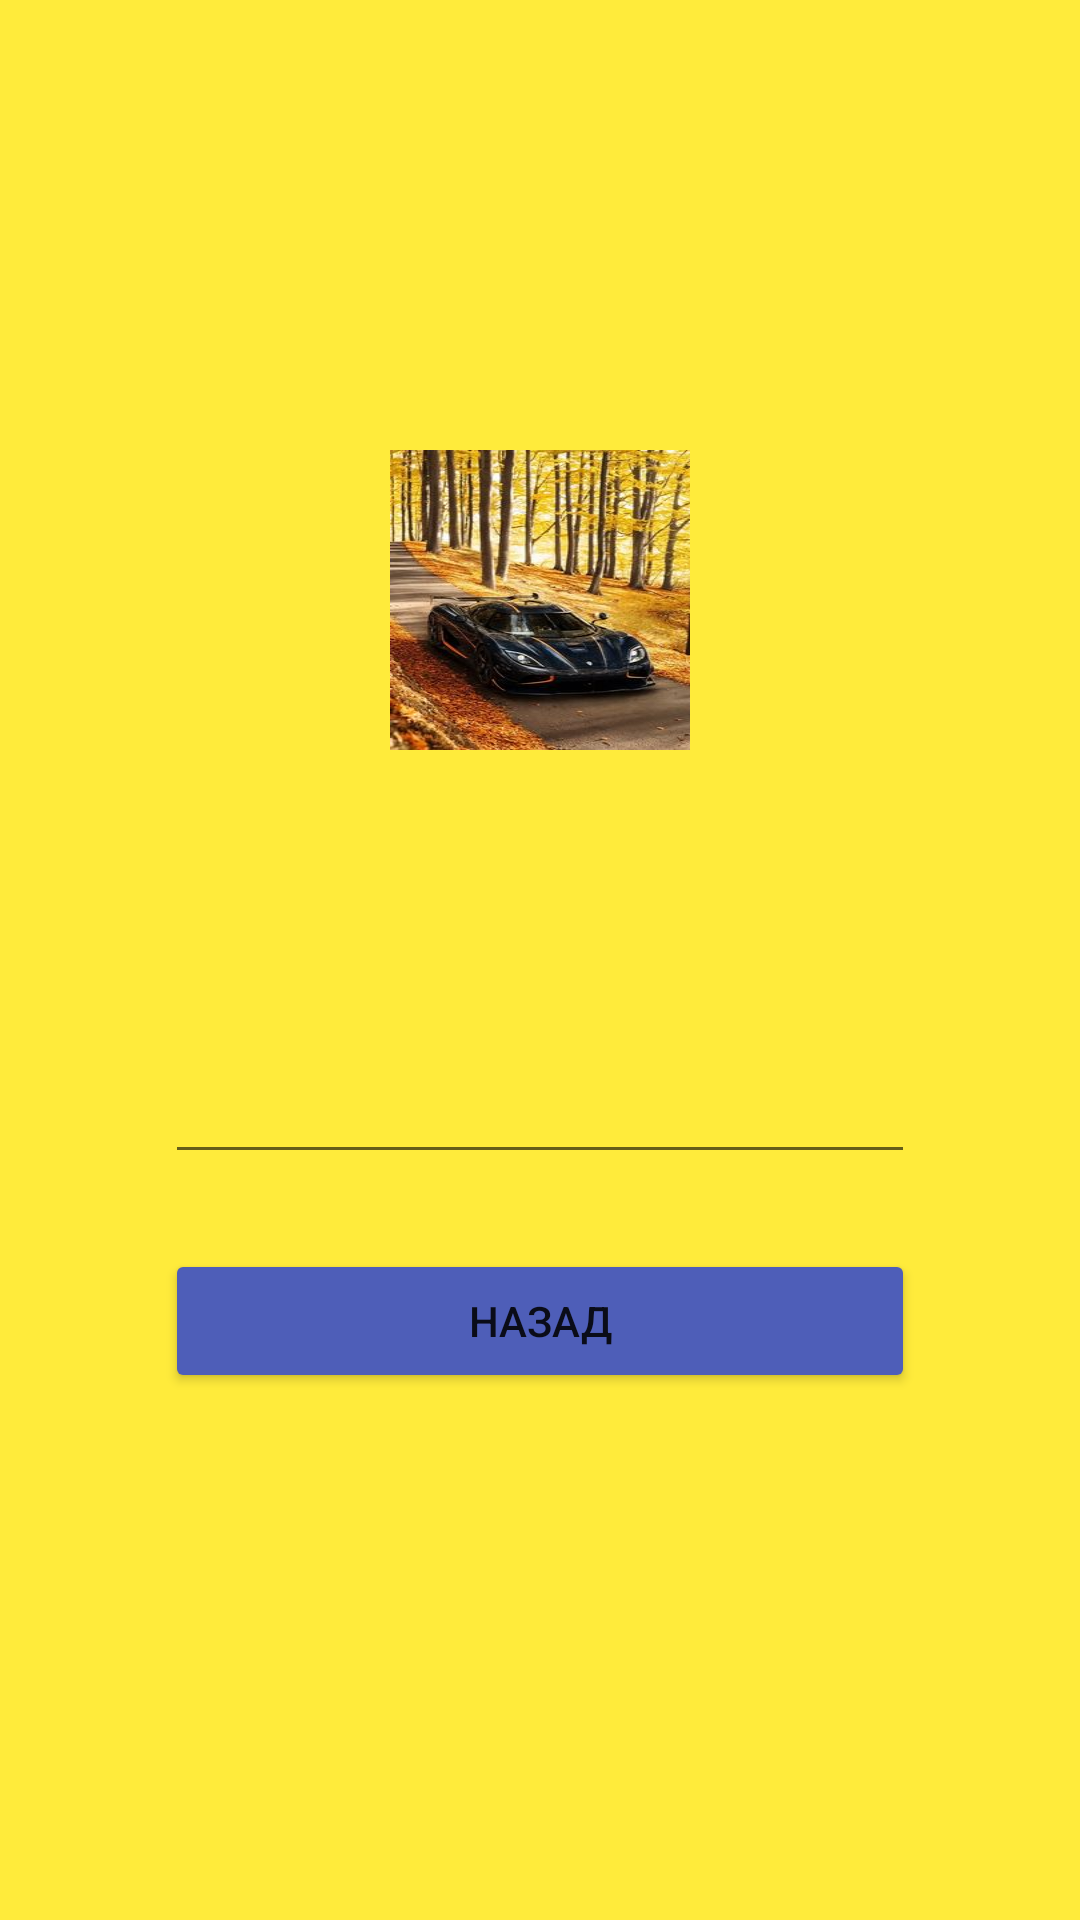

Screen size 1080x1920. Icon name, then its box in pixels as detection(x1, y1, x2, y2):
car: detection(390, 450, 690, 750)
